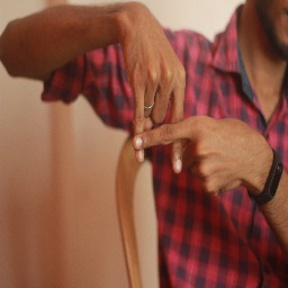H: (110, 72, 220, 190)
